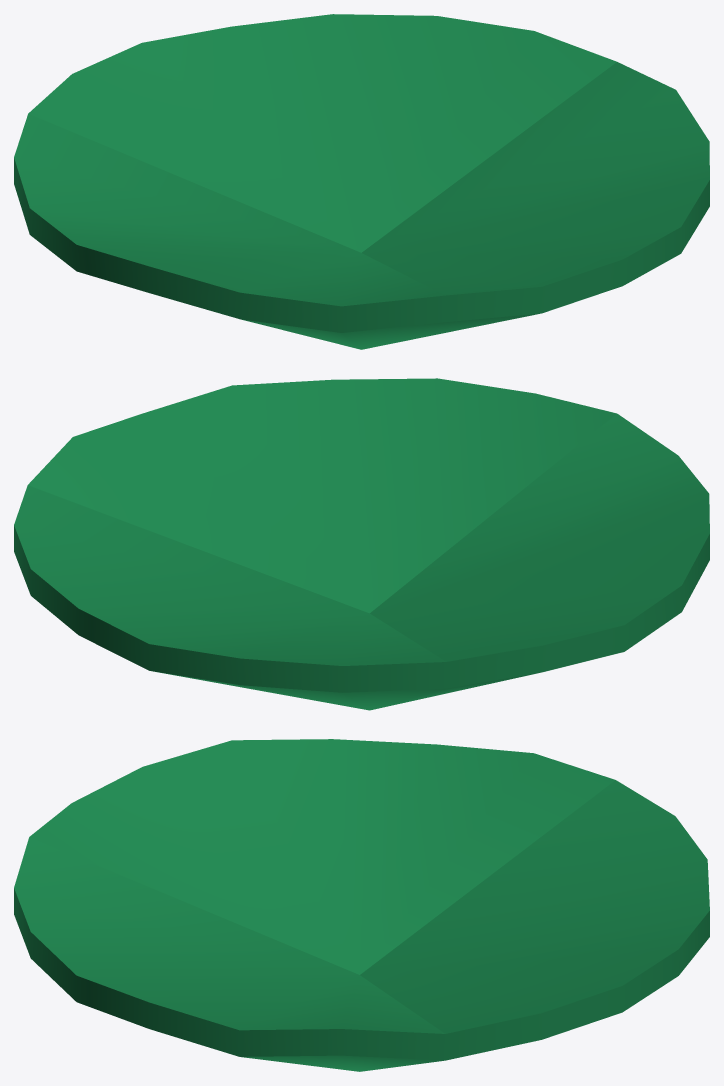
Rendered from plant_mushroom_leaf_D_thick.fbx.
3 views of the same model, one above another, from view 1: azimuth 30°, elevation 25°; view 2: azimuth 150°, elevation 25°; view 3: azimuth 270°, elevation 25° (orthographic).
Visible parts, largest first — view 1: plant_mushroom_leaf_D_thick; view 2: plant_mushroom_leaf_D_thick; view 3: plant_mushroom_leaf_D_thick.
Part boxes in pixels (box(x1,y1,x2,y2)): plant_mushroom_leaf_D_thick: box(14, 14, 709, 349); plant_mushroom_leaf_D_thick: box(14, 378, 709, 710); plant_mushroom_leaf_D_thick: box(14, 739, 709, 1071).
Size of the model in its own units: 27.9 by 8.72 by 27.89.
